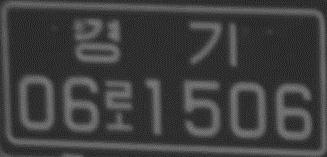0: (228, 82, 267, 138), (18, 75, 54, 130)
1: (142, 76, 167, 136)
5: (182, 79, 222, 138)
6: (275, 81, 313, 142), (62, 76, 100, 135)
경기_D: (74, 16, 237, 66)
로: (102, 80, 134, 131)
